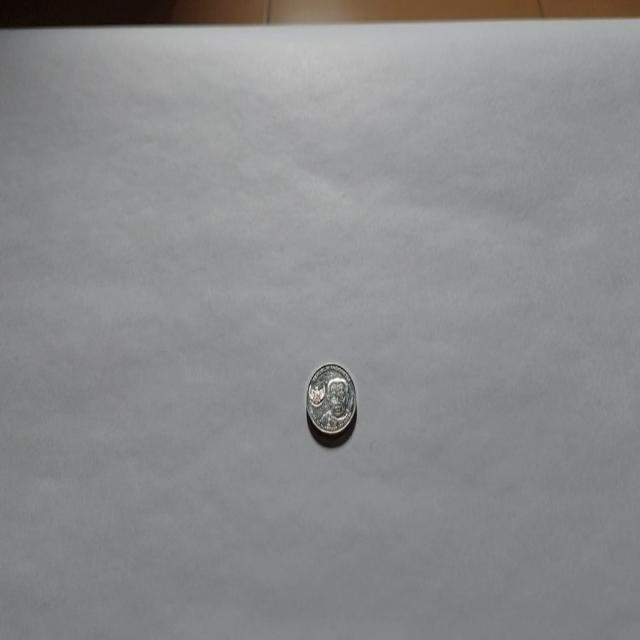seratus rupiah: (306, 361, 356, 439)
